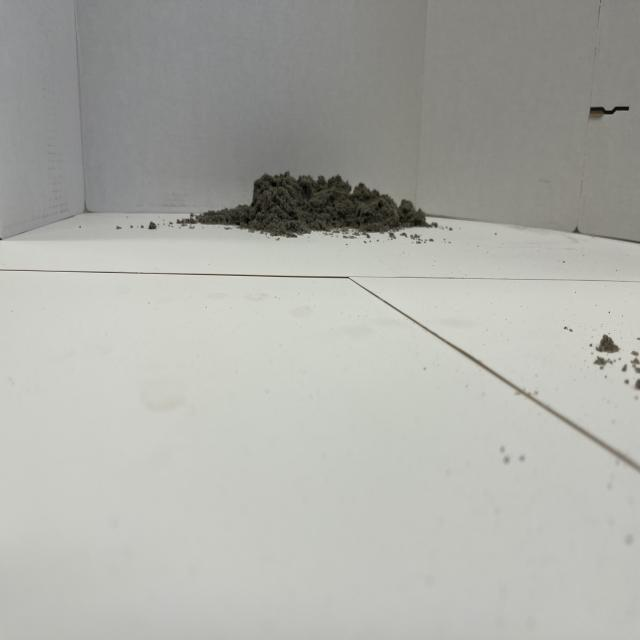sand: (210, 162, 415, 246)
